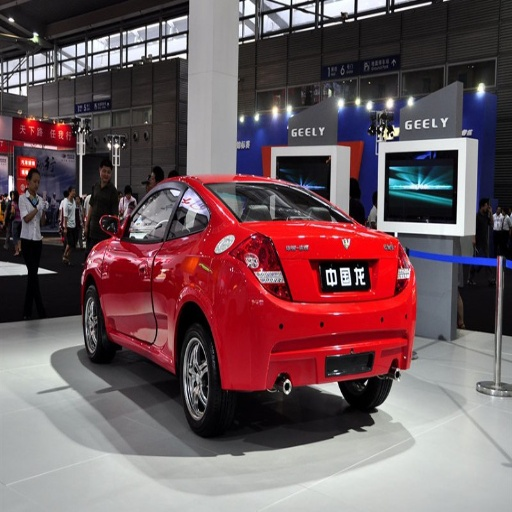back_bumper: (219, 283, 413, 387)
back_glass: (217, 184, 332, 219)
back_left_door: (152, 182, 207, 346)
tailgate: (269, 221, 385, 304)
